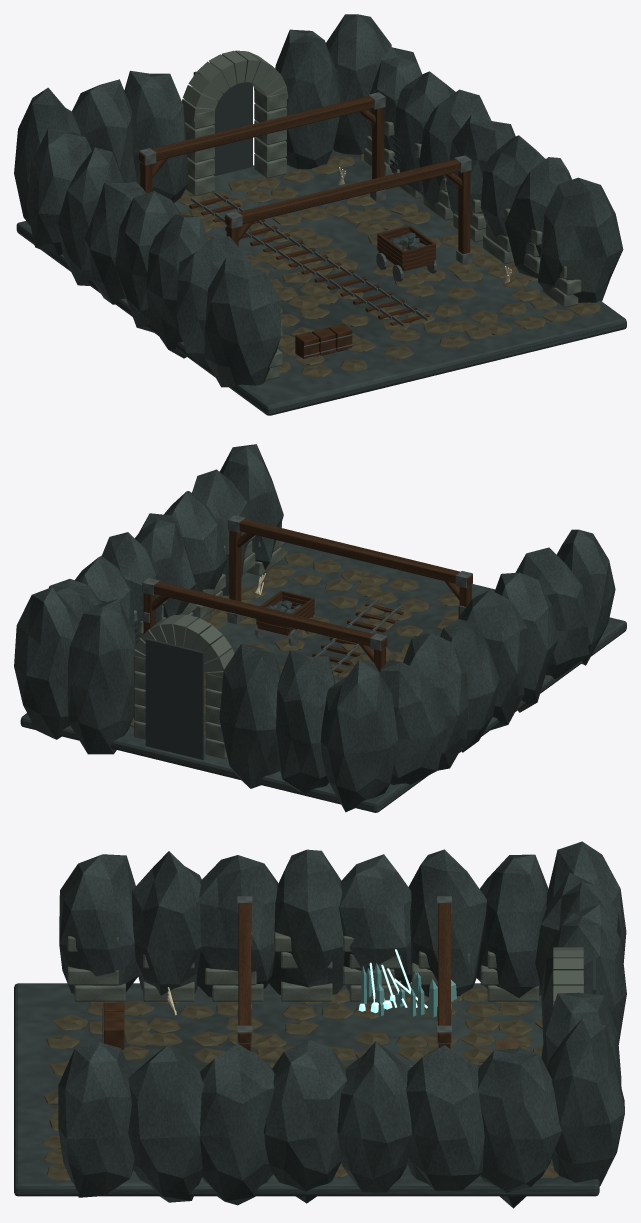
File: mine_sample.glb
3 renders of one model, top to bottom at view 1: azimuth 30°, elevation 25°; view 2: azimuth 150°, elevation 25°; view 3: azimuth 270°, elevation 25°, orthographic. The views are drawn at different scales.
Parts seen in each view (by area): view 1: Excavated floor, Fractured bedrock.010, Mine support, Buried settlement course, Support shoe, Dark tunnel beyond; view 2: Excavated floor, Mine support, Fractured bedrock.010, Buried settlement course, Dark tunnel beyond, Support shoe; view 3: Excavated floor, Fractured bedrock.010, Buried settlement course, Mine support, Living seam, Support shoe, Living seam.009.
Boxes of the visible parts, x1,y1,x2,y2 form: Excavated floor: (14, 14, 626, 415); Fractured bedrock.010: (177, 154, 600, 377); Mine support: (139, 96, 471, 358); Buried settlement course: (182, 50, 581, 380); Support shoe: (139, 92, 472, 357); Dark tunnel beyond: (193, 71, 400, 175); Excavated floor: (14, 444, 626, 812); Mine support: (143, 519, 472, 678); Fractured bedrock.010: (130, 549, 459, 741); Buried settlement course: (132, 522, 284, 758); Dark tunnel beyond: (131, 620, 204, 759); Support shoe: (142, 515, 472, 671); Excavated floor: (14, 841, 626, 1208); Fractured bedrock.010: (43, 986, 558, 1181); Buried settlement course: (67, 932, 583, 1007); Mine support: (103, 903, 483, 1066); Living seam: (361, 962, 456, 1017); Support shoe: (102, 896, 482, 1068); Living seam.009: (358, 949, 427, 1012).
Size of the model in its own units: 15.93 by 5.93 by 17.8.
11 materials, 6 textured.
